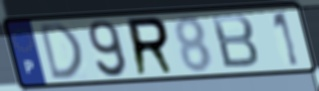1: (271, 10, 301, 68)
8: (172, 13, 215, 74)
9: (85, 18, 128, 79)
B: (208, 12, 262, 71)
D: (37, 20, 86, 83)
R: (125, 15, 178, 79)
